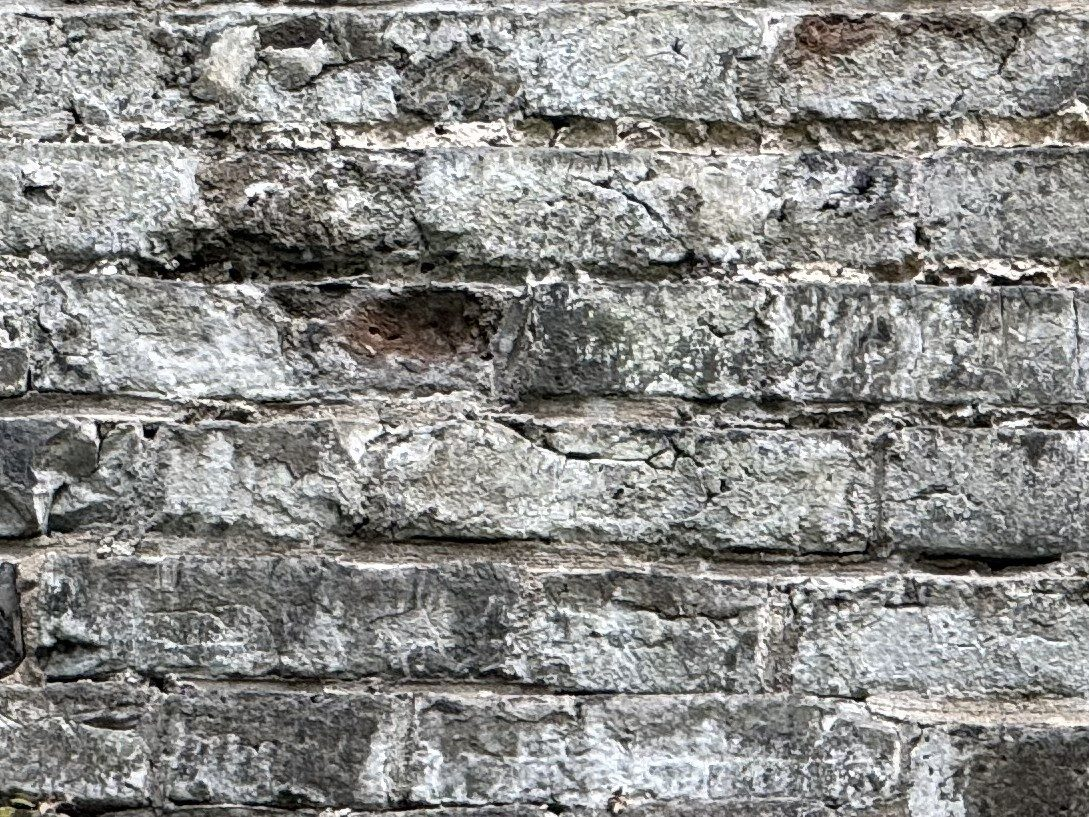brick_loss: (268, 254, 514, 405)
